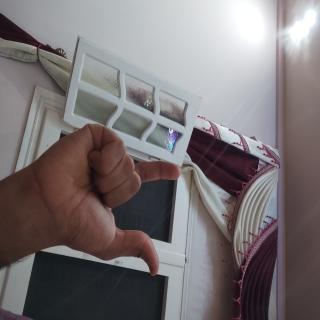NOON: (88, 179, 210, 320)
